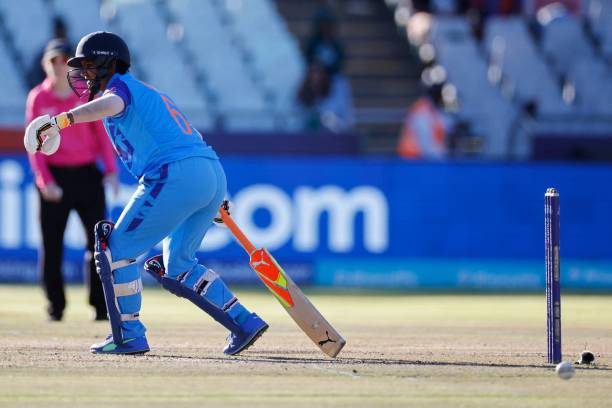bottom left: (336, 332, 352, 348)
bottom right: (323, 348, 341, 362)
top left: (256, 240, 271, 254)
top right: (241, 258, 257, 273)
